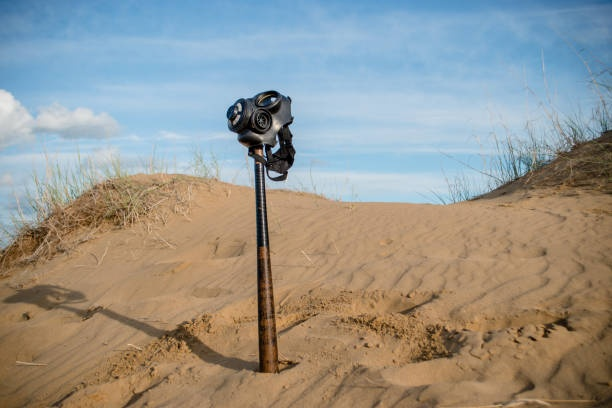bita: (240, 122, 285, 371)
